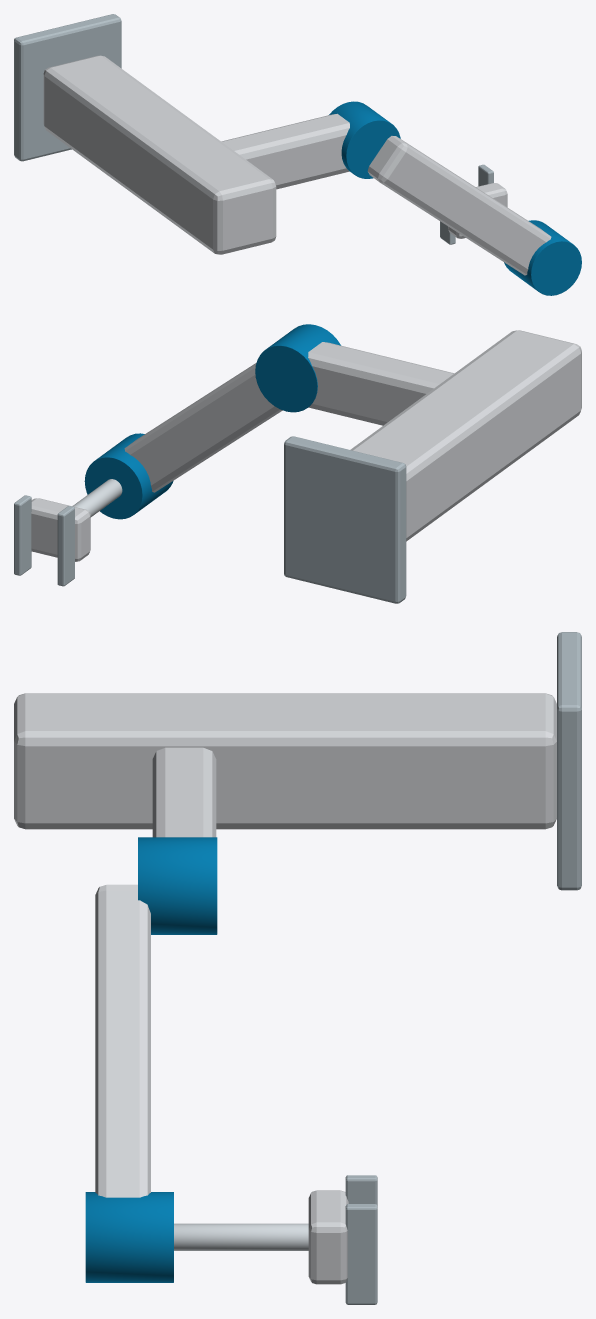
Rendered from generic_scara_arm.glb.
3 views of the same model, one above another, from view 1: azimuth 30°, elevation 25°; view 2: azimuth 150°, elevation 25°; view 3: azimuth 270°, elevation 25° (orthographic). The views are drawn at different scales.
Parts seen in each view (by area): view 1: First rigid arm, Gripper finger.001, Elbow bearing; view 2: First rigid arm, Gripper finger.001, Elbow bearing, Vertical quill; view 3: First rigid arm, Elbow bearing, Gripper finger.001, Vertical quill.
Part boxes in pixels (x1,y1,x2,y2): First rigid arm: (43,55,551,275); Gripper finger.001: (14,14,493,244); Elbow bearing: (329,101,581,295); First rigid arm: (31,330,581,561); Gripper finger.001: (14,436,406,603); Elbow bearing: (84,324,340,519); Vertical quill: (72,479,122,517); First rigid arm: (14,693,556,1284); Elbow bearing: (85,837,217,1282); Gripper finger.001: (345,632,581,1304); Vertical quill: (174,1223,308,1250).
Size of the model in its own units: 0.64 by 0.36 by 0.5.
